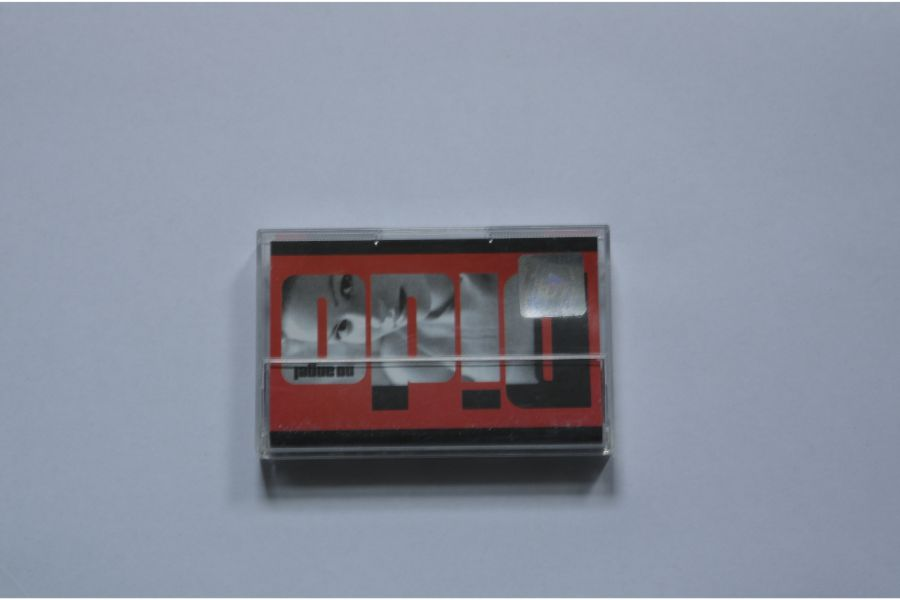album: (253, 220, 613, 461)
